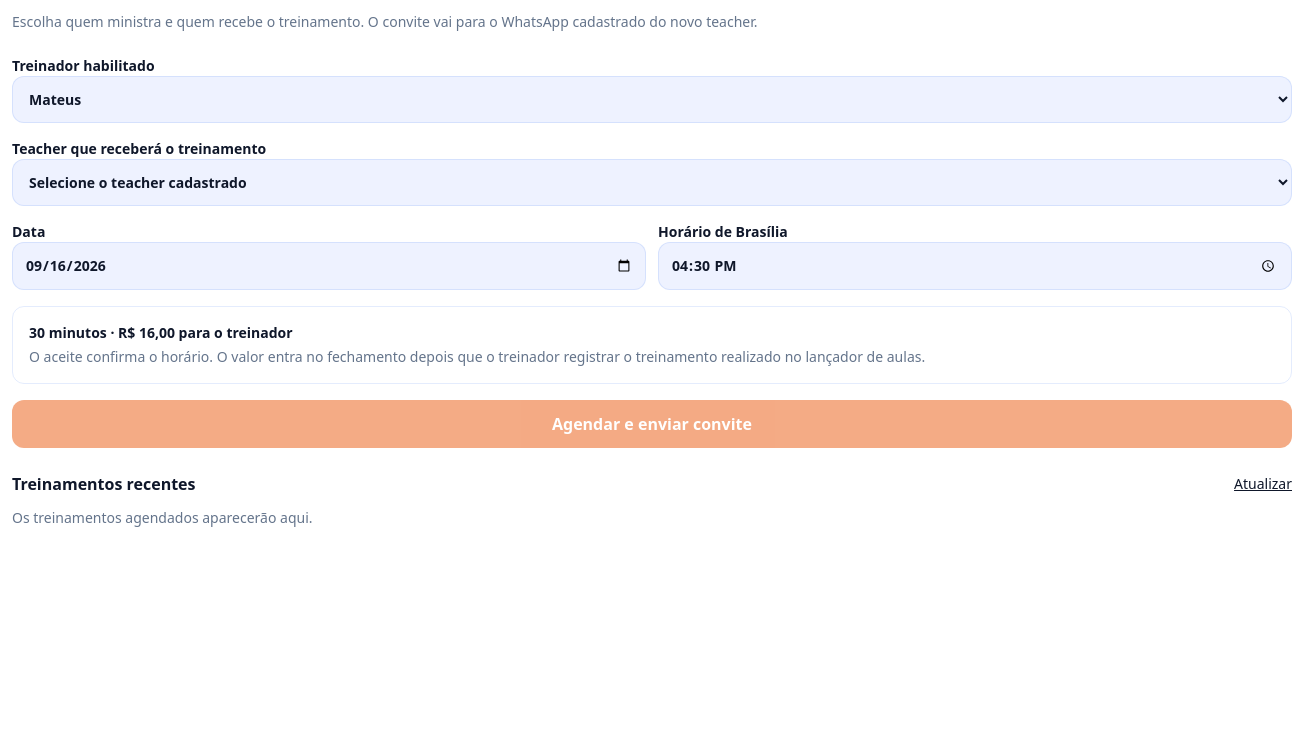
Scenario: directed teacher training › shows queue success separately from accepted training and payroll
Select "Teacher Maria" in the dropdown labelled "Teacher que receberá o treinamento" at (652, 182), box [12,159,1292,206]
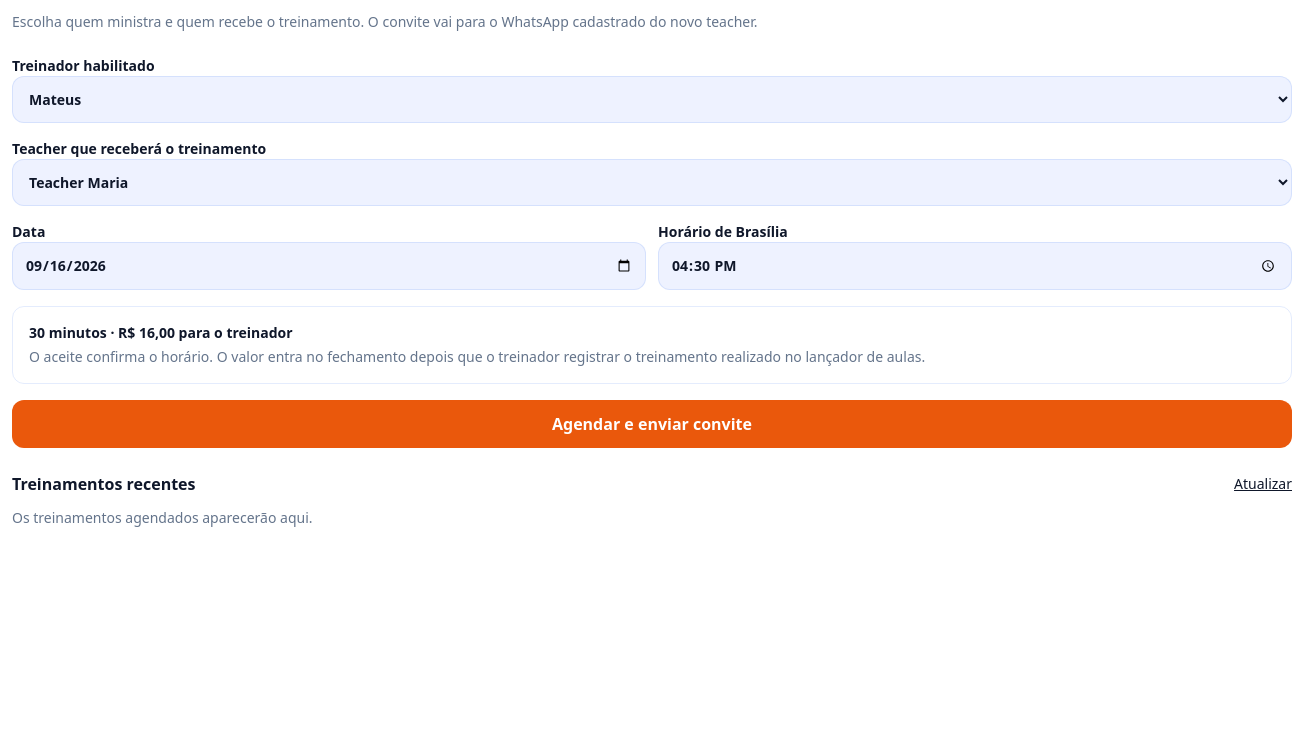
Click the button "Agendar e enviar convite" at (652, 424), box [12,400,1292,448]
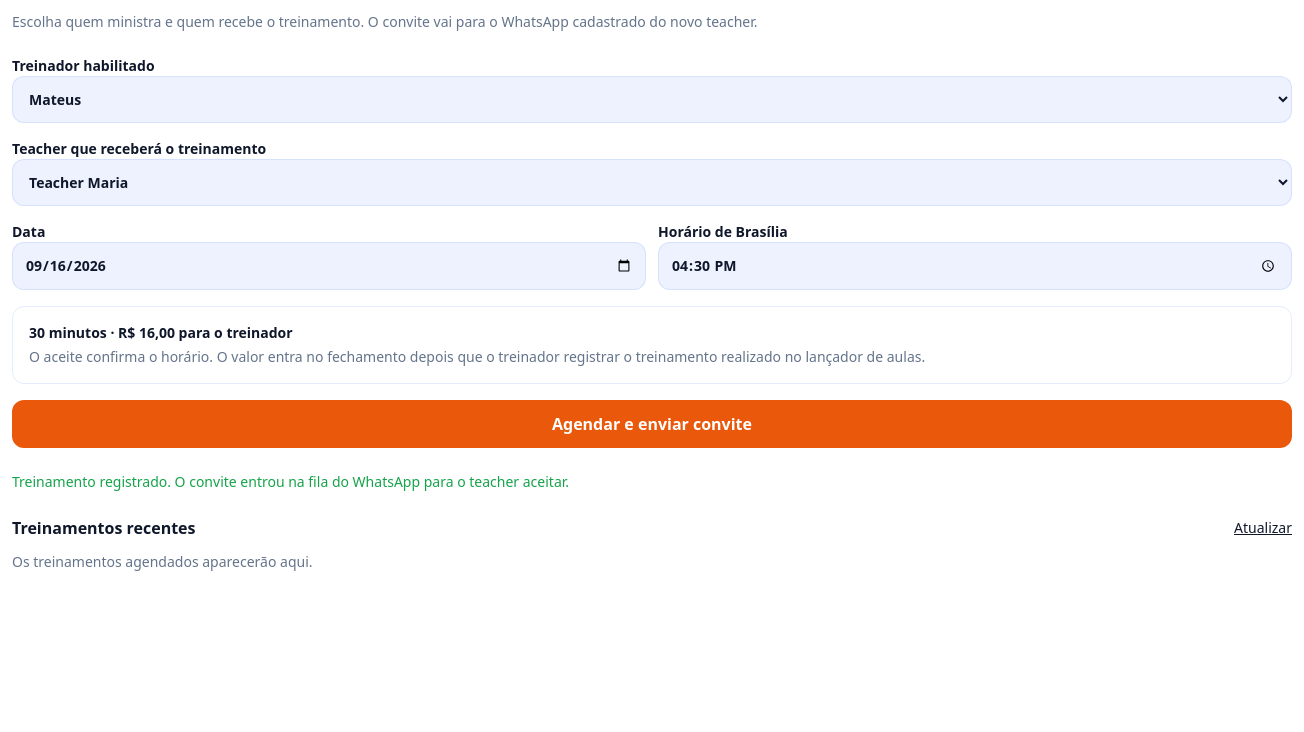
Expected: the text "O aceite confirma o horário" is shown, [29,347,925,366]
Now the text "convite entrou na fila" is shown, box [12,472,569,491]
